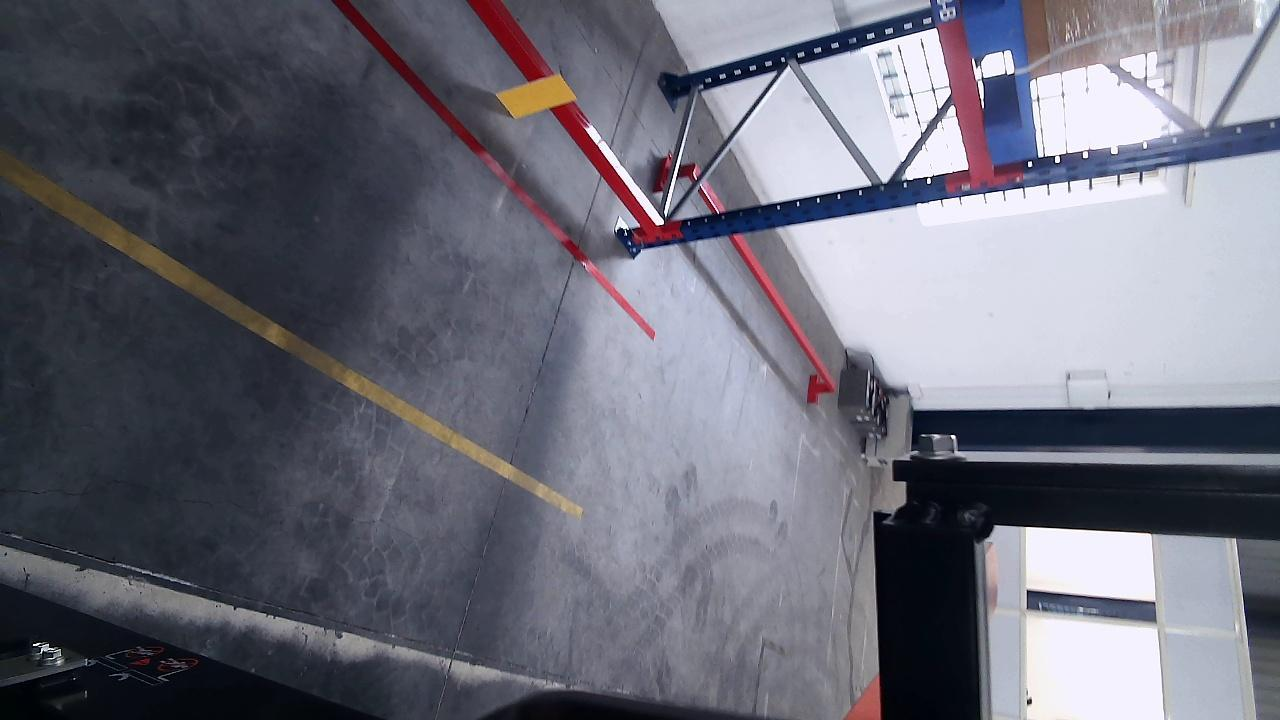h_rack: (931, 0, 993, 171)
orange_strip: (495, 75, 579, 118)
red_line: (331, 0, 657, 343)
small_pallet: (962, 3, 1039, 162)
yellow_line: (0, 144, 579, 516)
